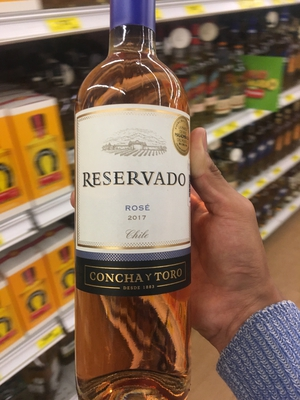reservado rose: (63, 19, 205, 393)
